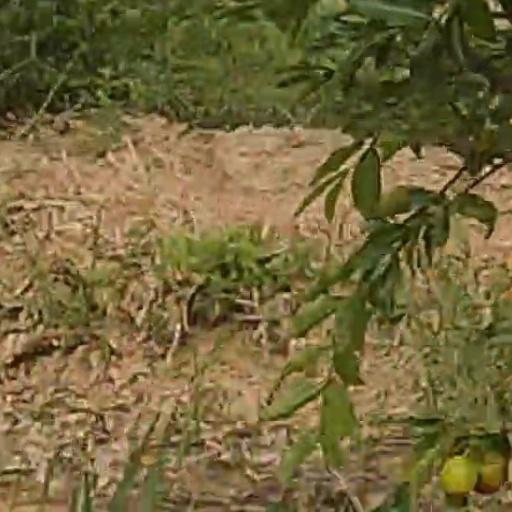acerola_verde: (441, 457, 475, 493)
acerola_vermelha: (478, 452, 502, 492)
